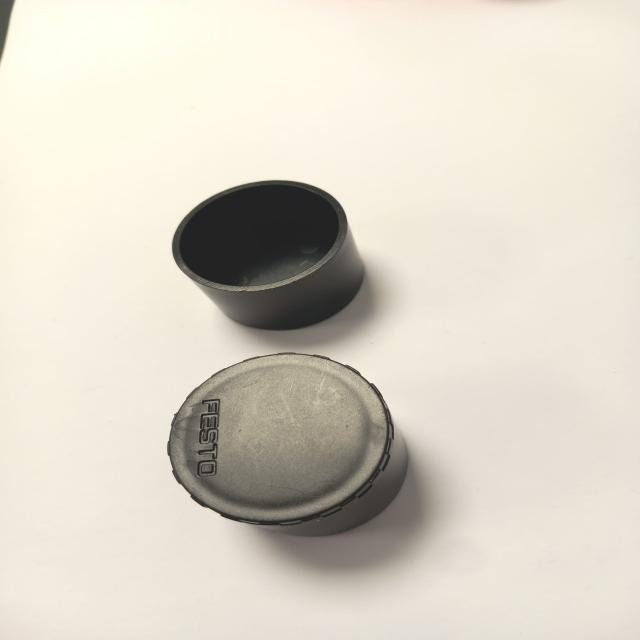NoLid: (182, 165, 375, 331)
Workpiece: (141, 359, 445, 555)
